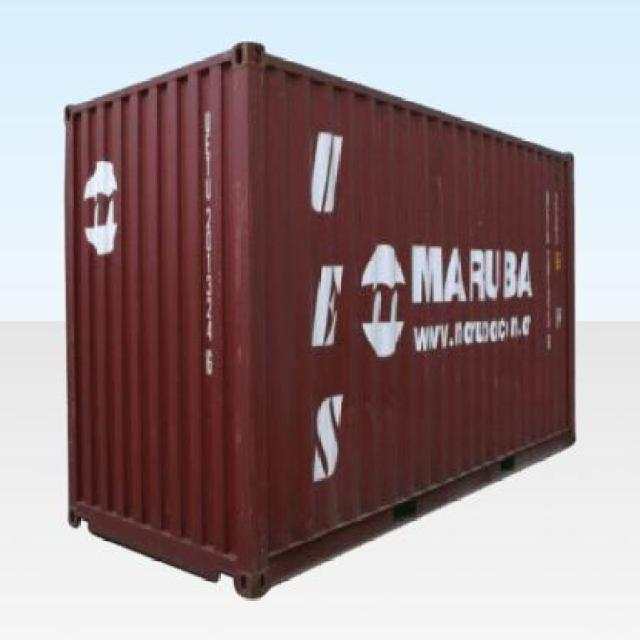dent: (337, 384, 417, 429), (481, 344, 527, 400)
